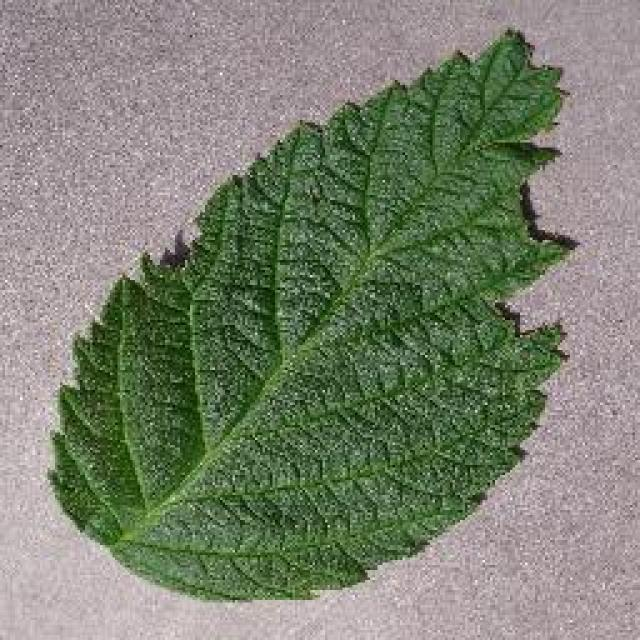Ras_healthy: (82, 127, 524, 566)
